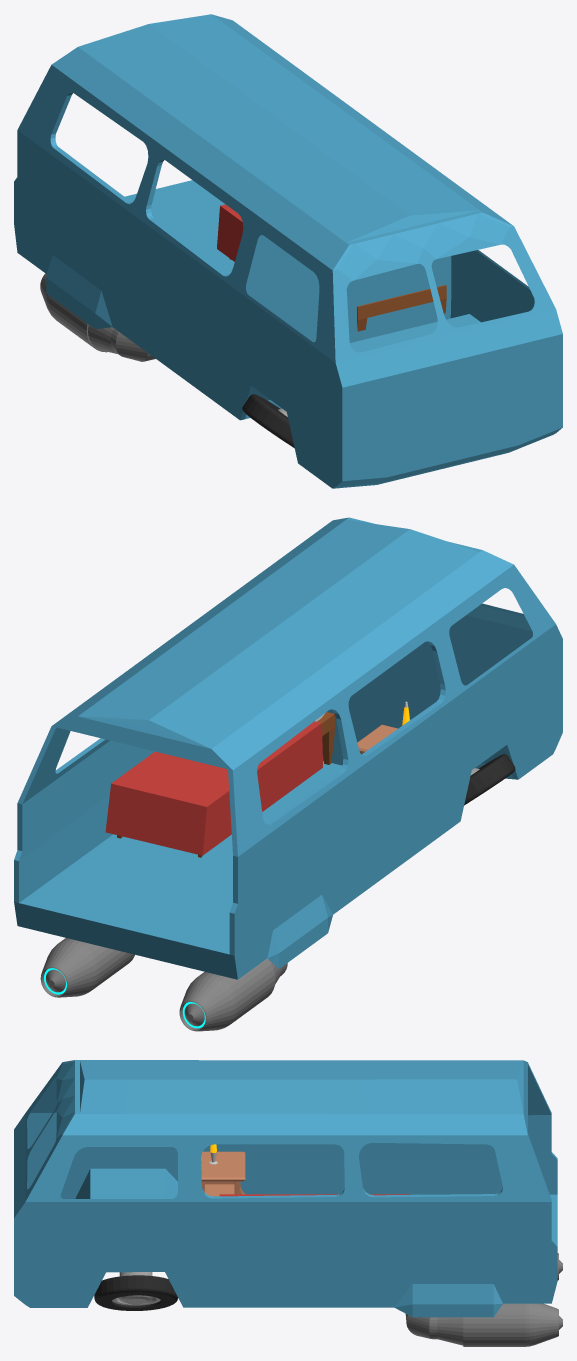
The model's file is Big Van.fbx.
The picture shows the model from 3 angles, top to bottom: view 1: azimuth 30°, elevation 25°; view 2: azimuth 150°, elevation 25°; view 3: azimuth 270°, elevation 25°; orthographic projection. The views are drawn at different scales.
Visible parts, largest first — view 1: Van_Body, Jets, Bed, Wheels, Sheet; view 2: Van_Body, Sheet, Jets, Wheels, Bed; view 3: Van_Body, Jets, Wheels, Side Table.
Part boxes in pixels (<box>): Van_Body: <box>14,14,562,488</box>; Jets: <box>40,273,155,361</box>; Bed: <box>229,258,446,331</box>; Wheels: <box>242,394,294,447</box>; Sheet: <box>217,204,243,261</box>; Van_Body: <box>14,517,562,979</box>; Sheet: <box>105,721,322,855</box>; Jets: <box>40,938,287,1031</box>; Wheels: <box>464,754,515,805</box>; Bed: <box>117,712,334,857</box>; Van_Body: <box>14,1060,557,1317</box>; Jets: <box>405,1253,562,1346</box>; Wheels: <box>94,1272,177,1310</box>; Side Table: <box>201,1151,245,1196</box>.
Bounding box in the file's own units: 237 × 254 × 532.
